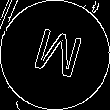M_S: (26, 24, 84, 86)
